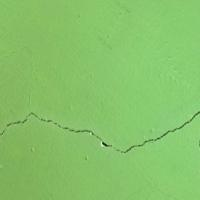crack: (0, 80, 199, 163)
